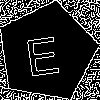E: (22, 27, 62, 77)
